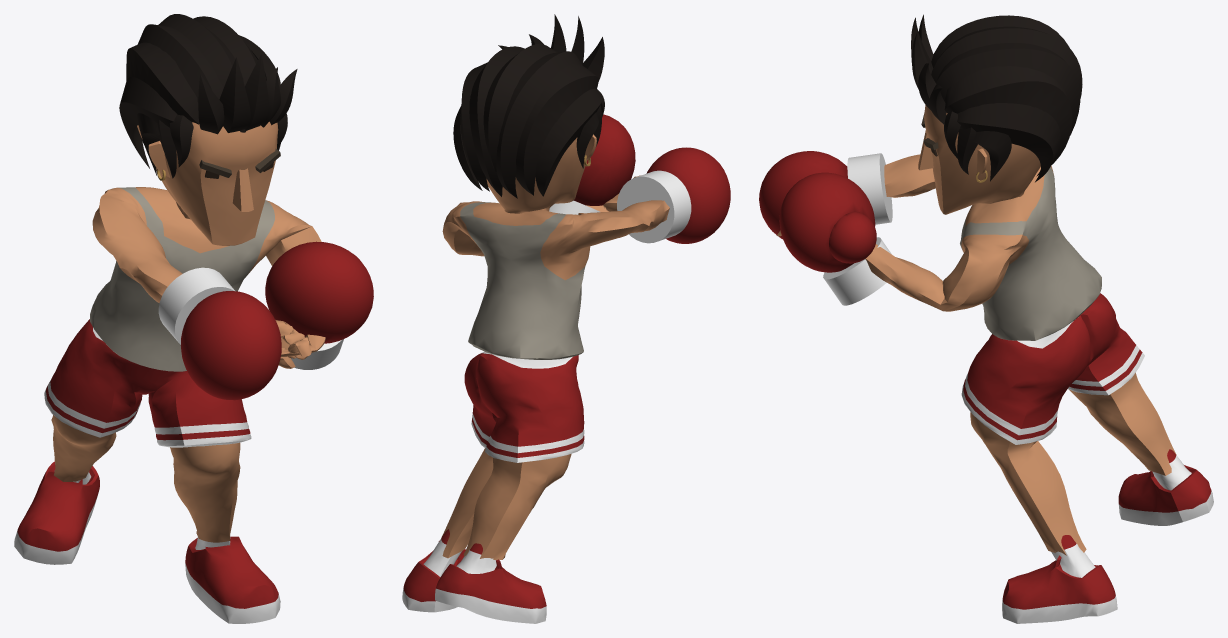
The model's file is av-boxeador-aposentado.glb.
3 views of the same model, side by side, from view 1: azimuth 30°, elevation 25°; view 2: azimuth 150°, elevation 25°; view 3: azimuth 270°, elevation 25° (orthographic). The views are drawn at different scales.
Visible parts, largest first — view 1: Ad_luva_boxe_0_0; view 2: Ad_luva_boxe_0_0; view 3: Ad_luva_boxe_0_0.
Boxes of the visible parts, box(x1,y1,x2,y2) form: Ad_luva_boxe_0_0: box(14, 14, 373, 623); Ad_luva_boxe_0_0: box(402, 14, 730, 623); Ad_luva_boxe_0_0: box(759, 14, 1213, 623).
Size of the model in its own units: 0.5376 by 1.42 by 1.04.
Materials: 1 (1 with a texture image).
